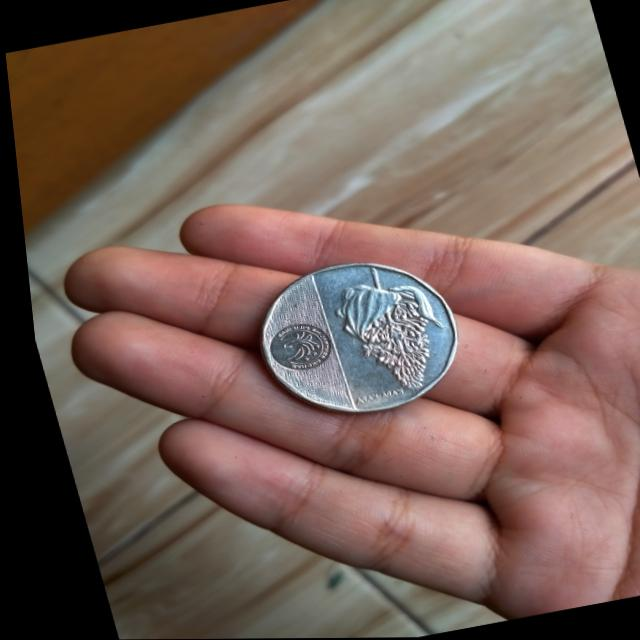10_New_Back: (302, 254, 452, 408)
